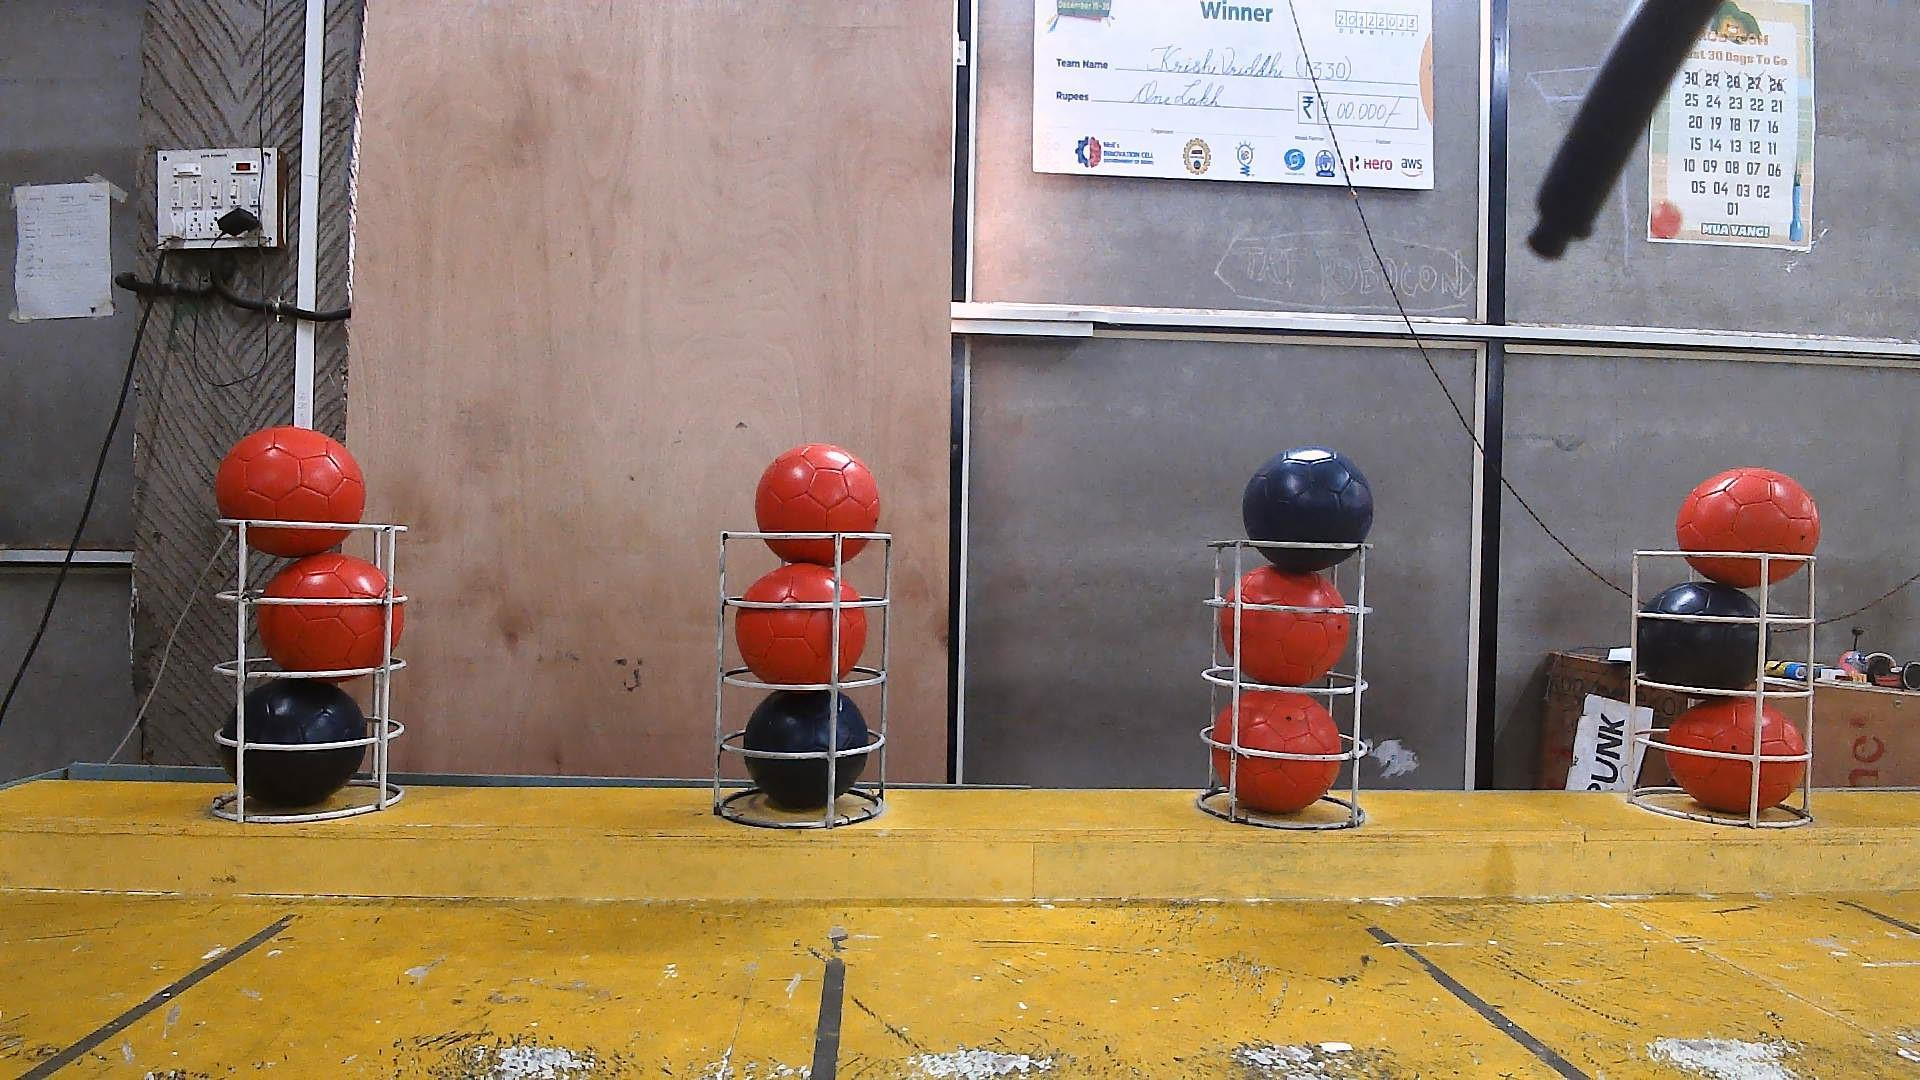dhoka: (218, 679, 368, 806), (1241, 446, 1373, 574), (742, 690, 870, 810), (1635, 582, 1774, 690)
laale: (214, 423, 364, 559), (258, 551, 405, 671), (1676, 468, 1818, 588), (735, 563, 870, 686), (1665, 698, 1808, 814), (1212, 690, 1342, 814), (1218, 566, 1350, 686), (754, 443, 881, 564)
